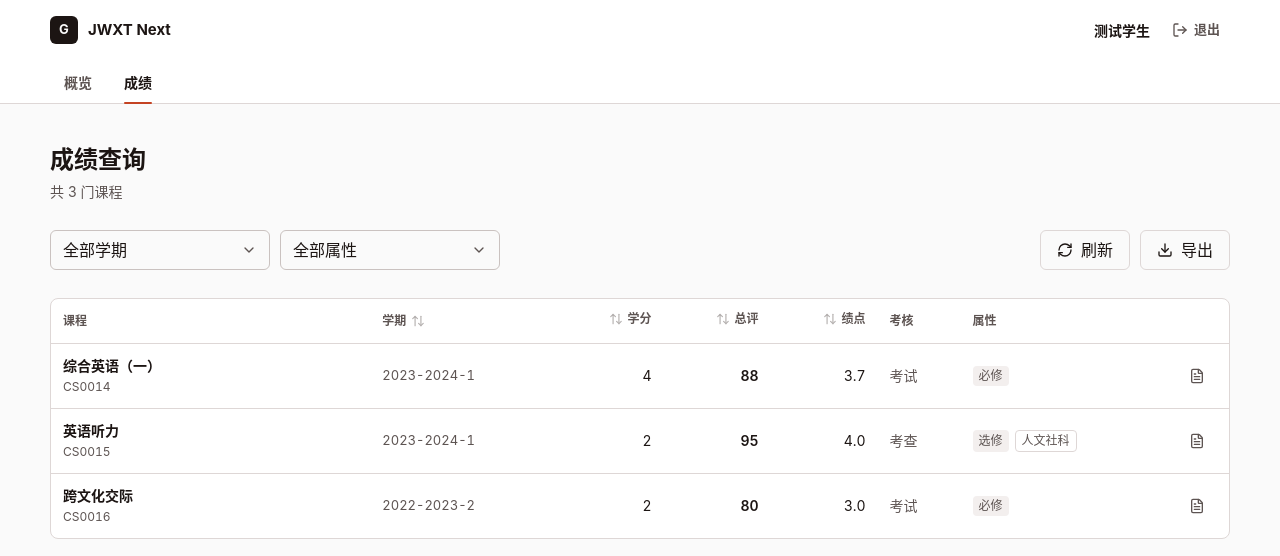
grades page › 刷新成功后写入缓存并进入 30 秒冷却
Expected: the heading "成绩查询" is shown, [50, 145, 146, 174]
Click the button with aria-label "刷新成绩" at (1085, 250), box [1040, 230, 1130, 270]
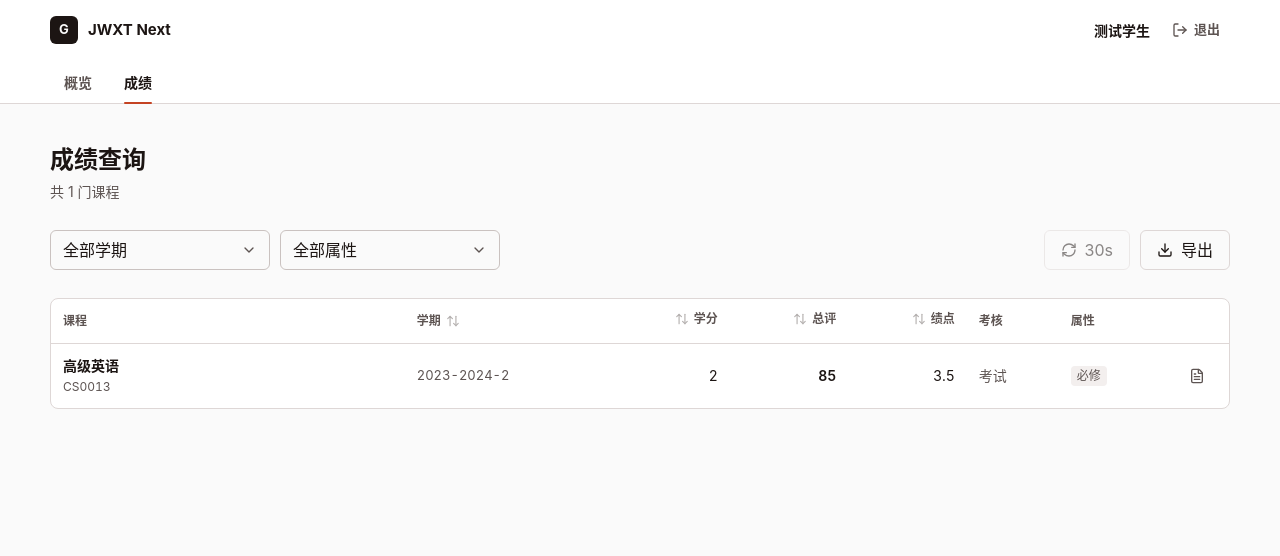
Now the button named "刷新冷却中" is disabled, box [1044, 230, 1130, 270]
Now the button named "刷新冷却中" reads "30s", box [1044, 230, 1130, 270]
Now the text "高级英语" is shown, box [63, 357, 119, 374]
